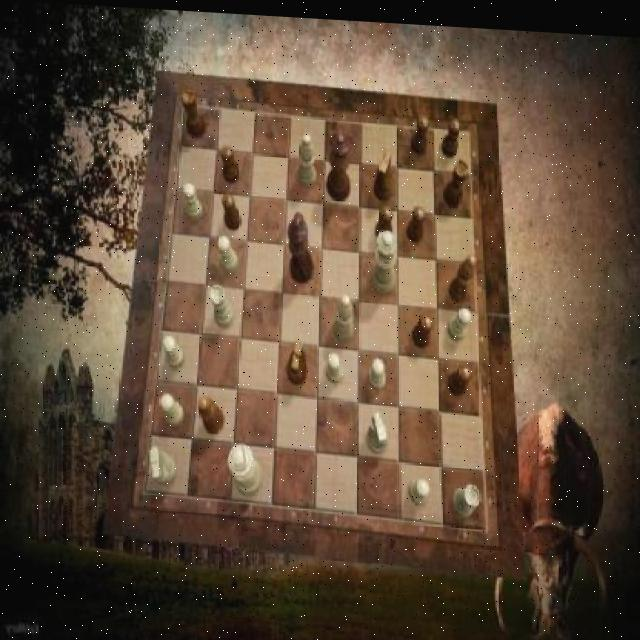bishop: (448, 247, 475, 299), (197, 392, 223, 432)
black-bishop: (287, 207, 314, 281)
black-king: (373, 147, 392, 197), (286, 337, 306, 383)
black-knight: (440, 113, 460, 154), (447, 359, 471, 393), (410, 110, 429, 151), (220, 189, 240, 227), (412, 308, 432, 343), (406, 201, 424, 239), (375, 201, 392, 239), (221, 143, 238, 181)
black-pawn: (326, 126, 350, 196)
black-queen: (180, 87, 206, 136), (443, 154, 468, 203)
black-rook: (296, 129, 316, 184), (333, 291, 354, 338)
white-bishop: (228, 441, 263, 496)
white-king: (148, 446, 176, 484), (365, 406, 388, 450)
white-knight: (447, 301, 471, 337), (183, 179, 203, 219), (160, 392, 183, 426), (217, 233, 237, 272), (162, 334, 185, 367), (369, 354, 386, 387), (325, 349, 343, 380), (408, 473, 429, 499)
white-pawn: (371, 225, 397, 290)
white-queen: (209, 282, 234, 327), (452, 478, 482, 514)
